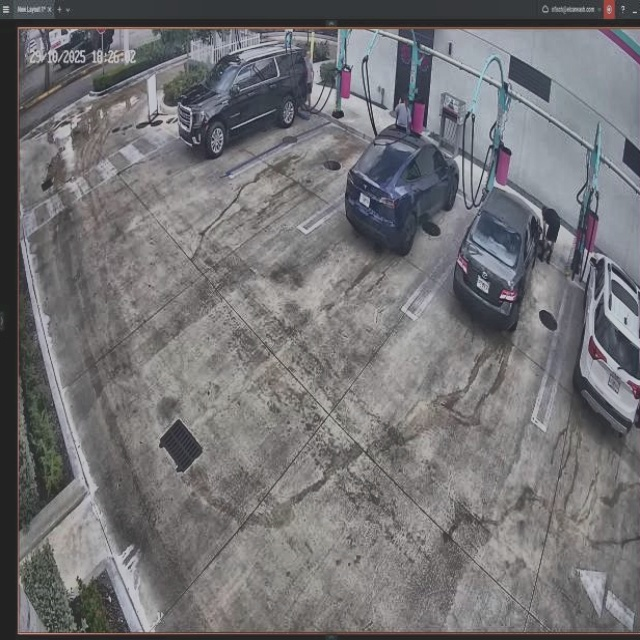Car: (346, 124, 459, 246), (455, 186, 541, 326)
